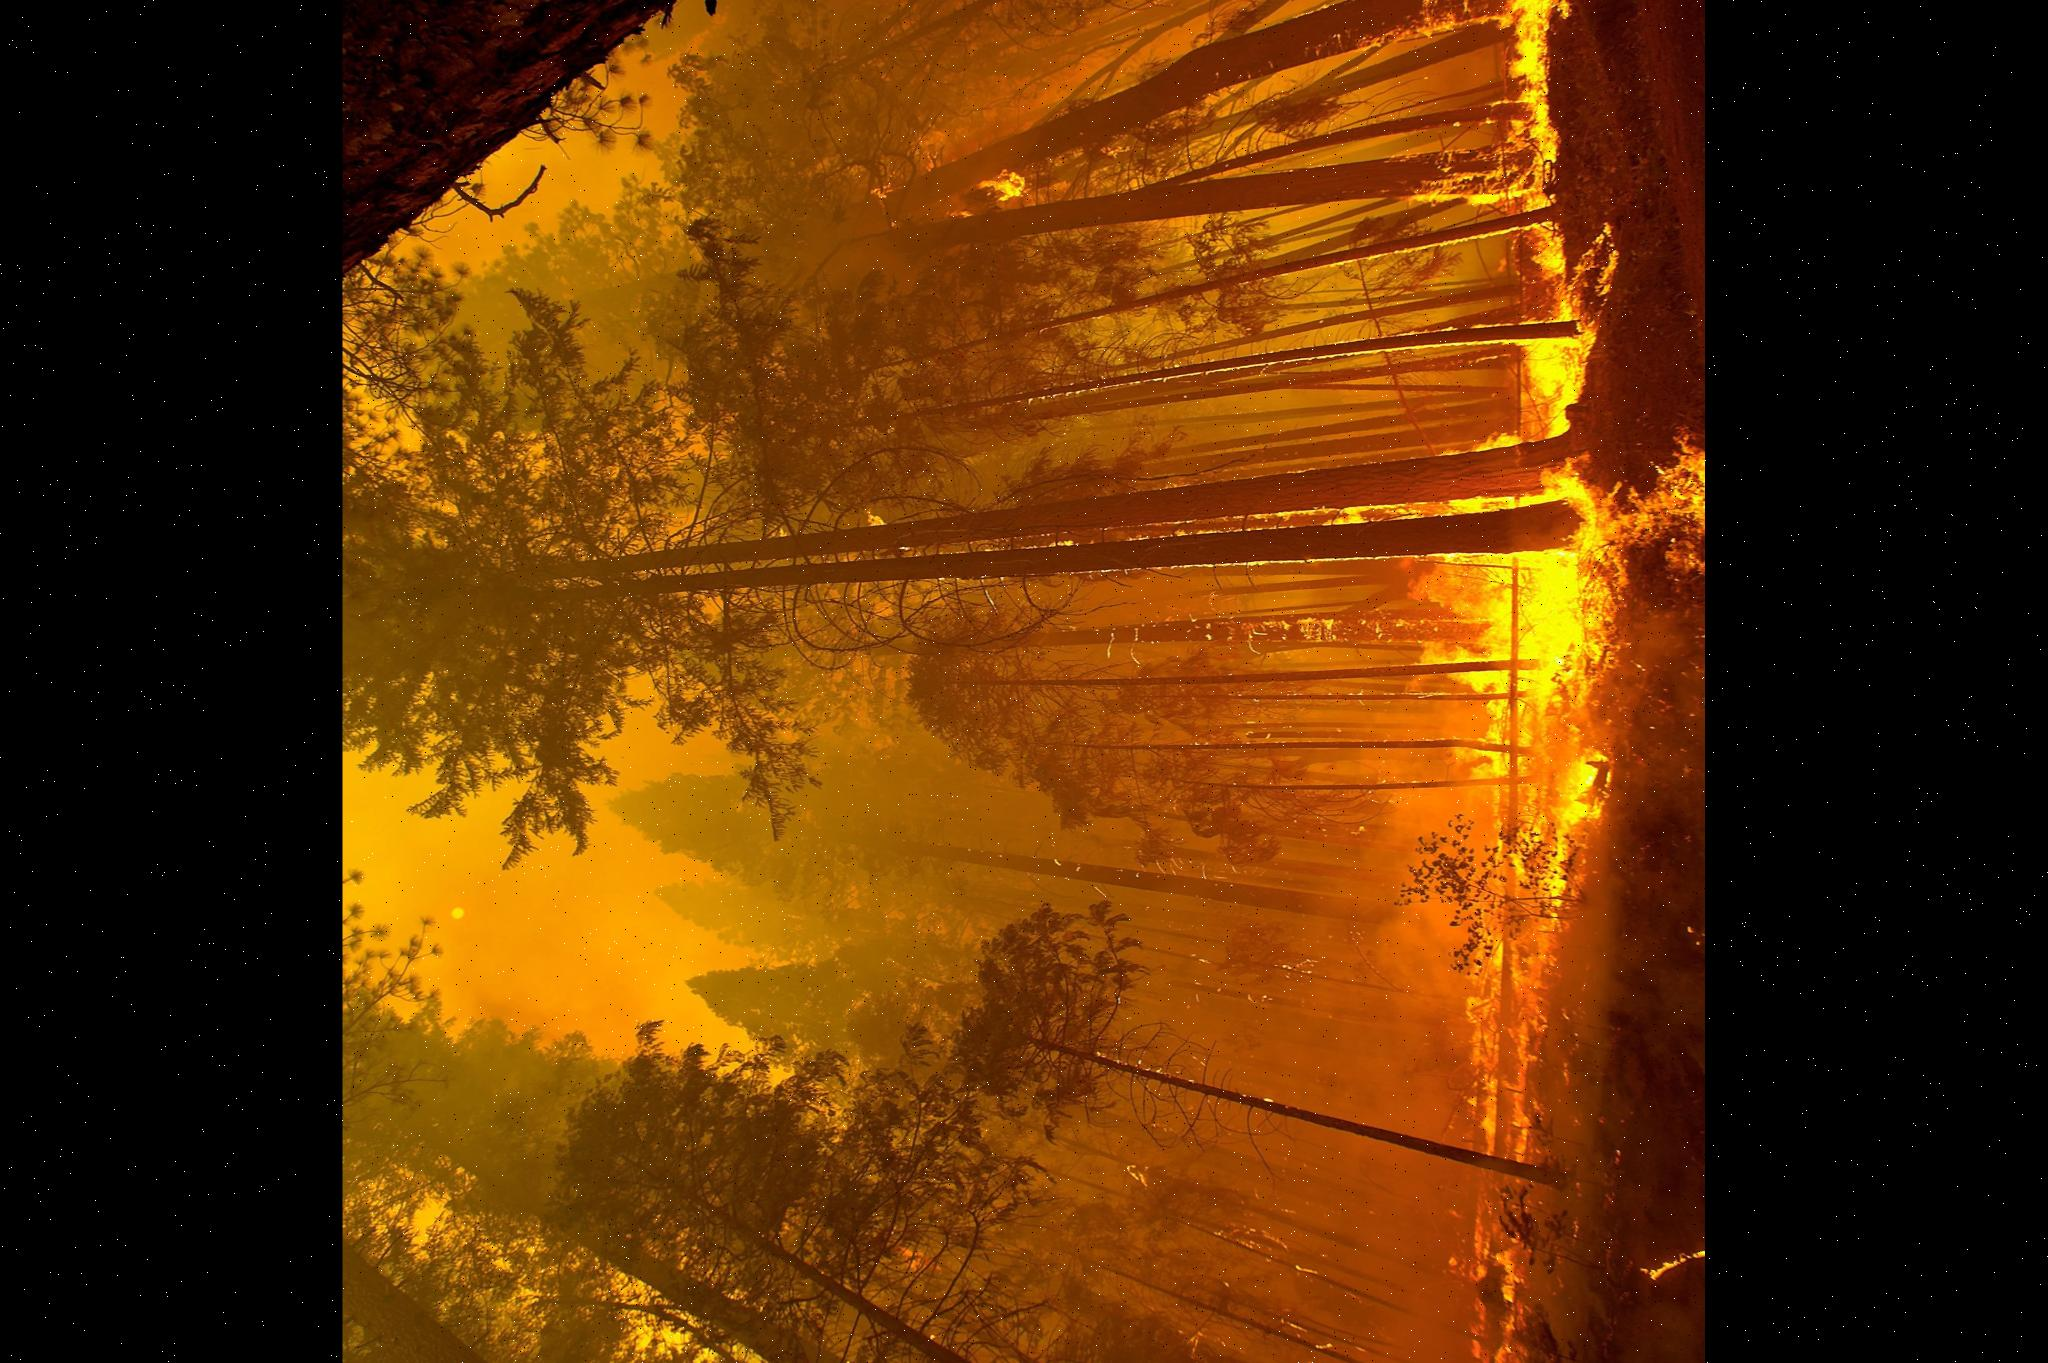fire: (1449, 0, 1704, 964), (1447, 990, 1642, 1363)
